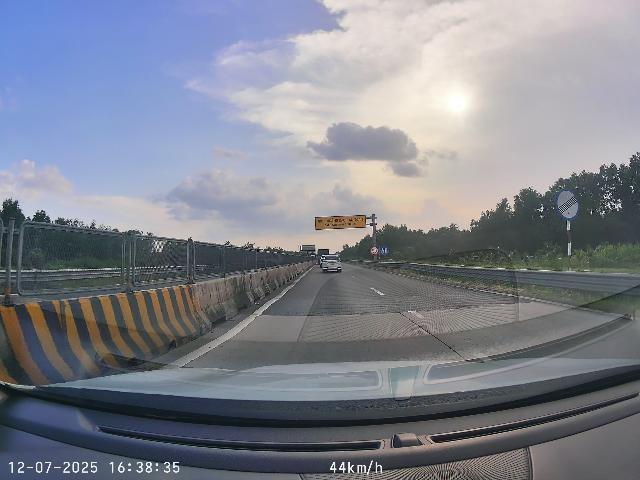127-toc-do-toi-da-90: (370, 246, 379, 256)
135-het-tat-ca-cac-lenh-cam: (555, 188, 580, 220)
306-toc-do-toi-thieu-60: (380, 246, 390, 256)
